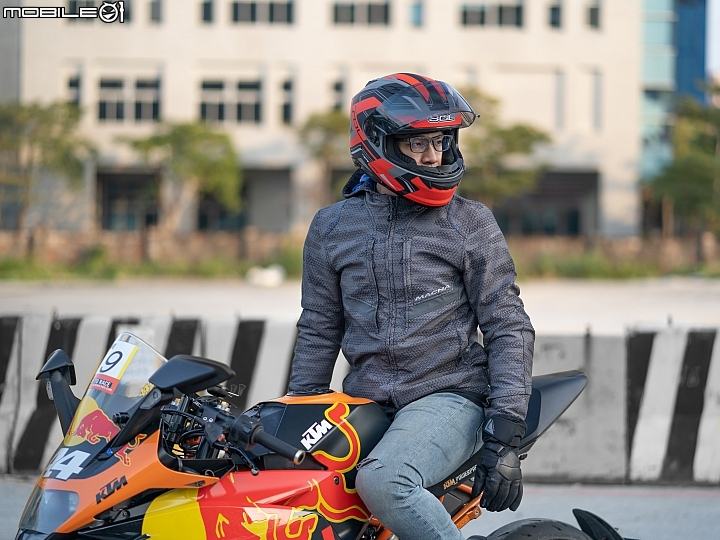helmet: (345, 69, 470, 208)
